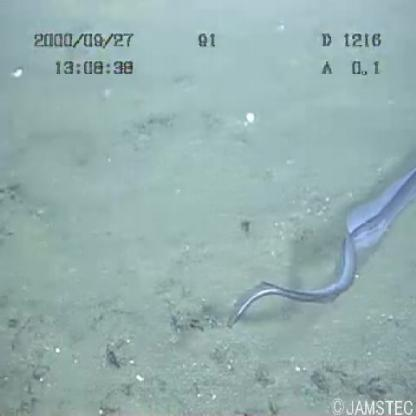Bio: (225, 162, 415, 330)
